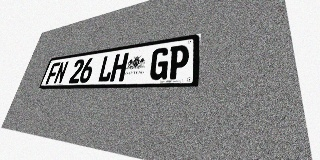2: (68, 59, 85, 83)
6: (78, 57, 96, 83)
F: (45, 62, 61, 84)
G: (149, 47, 170, 80)
H: (110, 52, 129, 82)
L: (97, 54, 116, 82)
N: (53, 61, 69, 84)
P: (167, 44, 190, 79)
